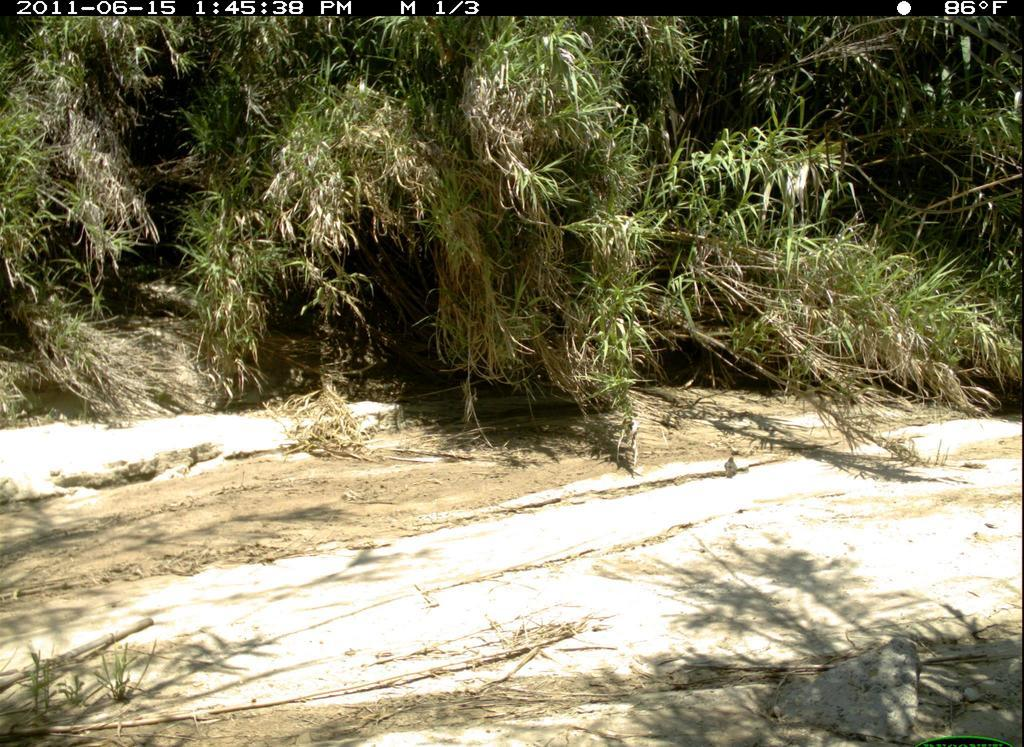bird: (723, 453, 740, 481)
